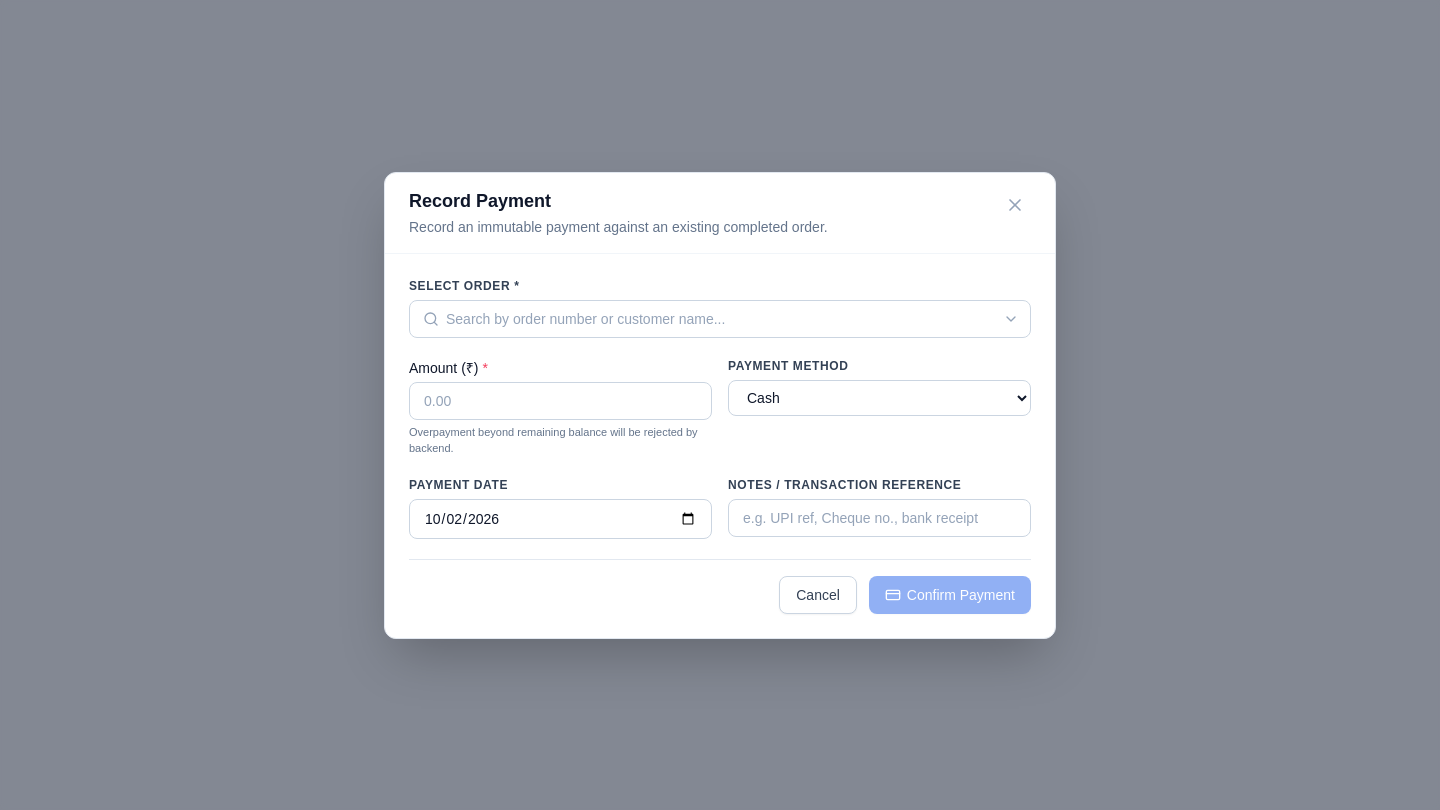
Scenario: PaymentFormModal - Searchable Order Select UX › selects filtered order and loads authoritative details and outstanding balance
Type "0007" into the dropdown labelled "Select Order *" at (720,318), box [409,300,1031,338]
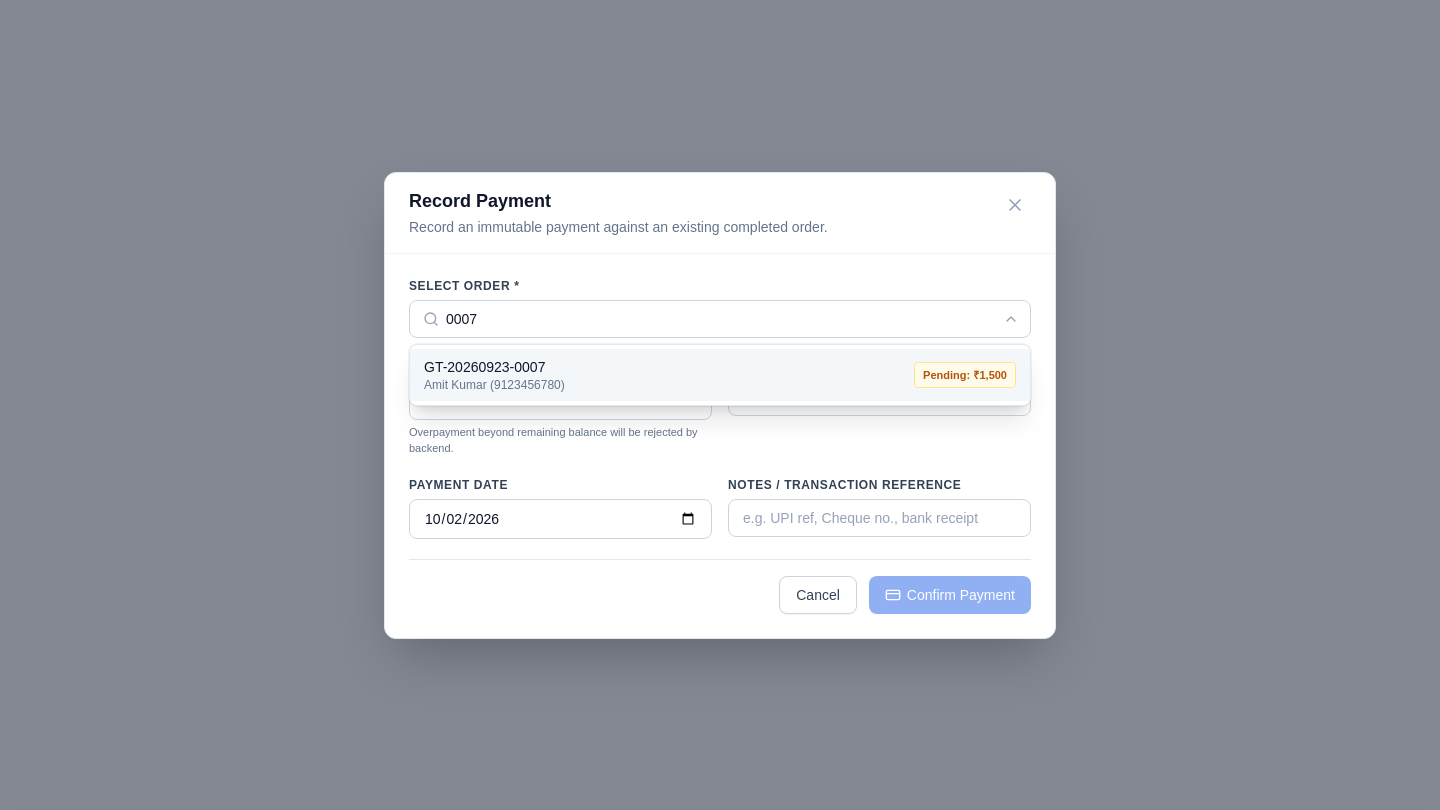
Click the text "GT-20260923-0007" at (494,366), box [424,356,565,376]
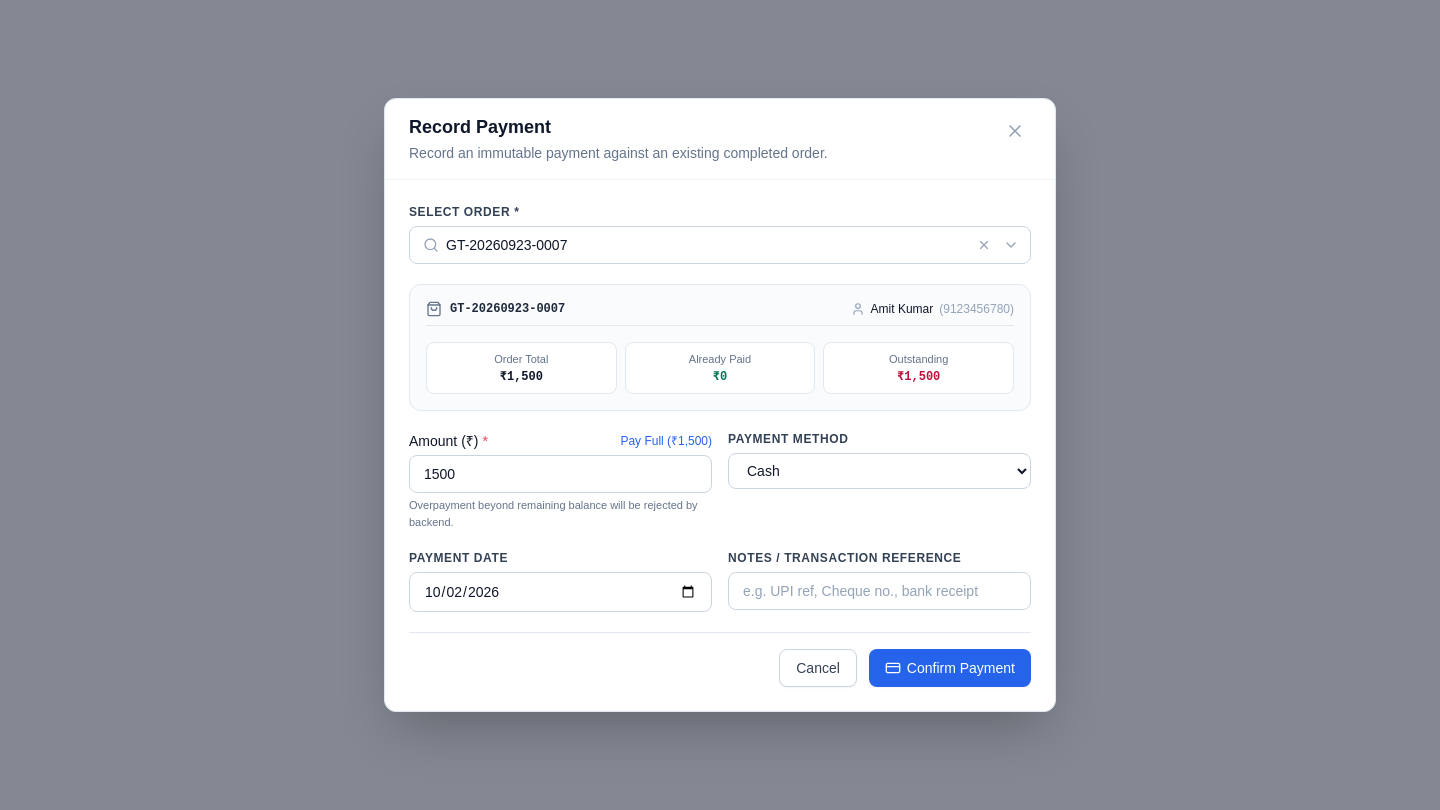
Expected: the number field with placeholder "0.00" holds "1500", [409,455,712,493]
Expected: the text "Already Paid" is shown, [689,353,751,365]
Expected: the text "Outstanding" is shown, [889,353,948,365]
